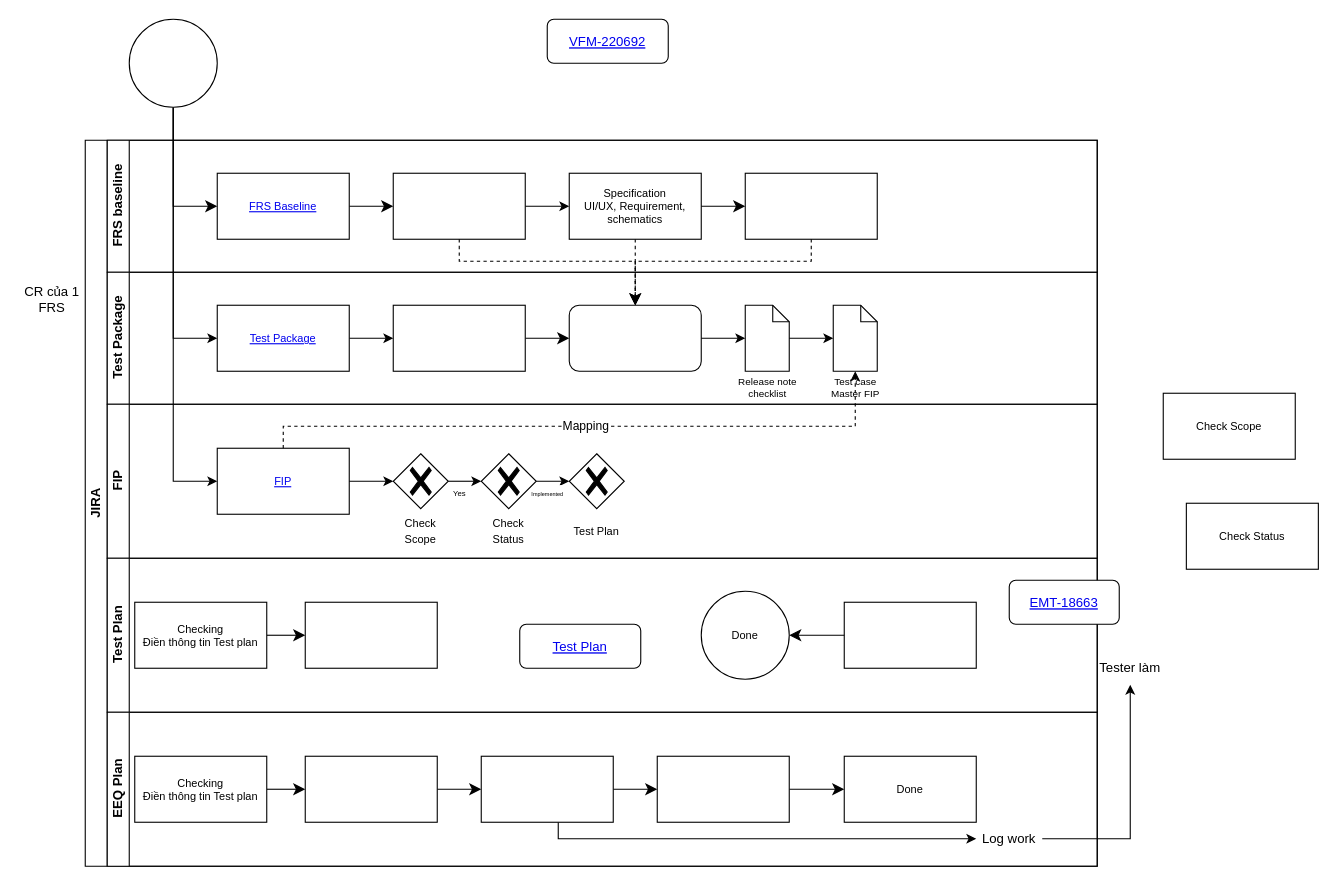
Some shapes in this 1338 by 886 pixel diagram are drawn without their labels. The shapes that lost their labels are listed below. From the top down, each one's centre as x and y in pixels, then its label:
(172,62): FRS Delivering
(458,205): CAN/LIN version, FW
(810,205): CCB Apply
(458,337): ECU Release note
(634,337): Create release note Test case, Test env
(370,634): ENGAGED
(909,634): Gắn Issue mustfix
(370,788): Tạo subtask
(546,788): Assign/Điền plan
(722,788): Checking/Fill result
